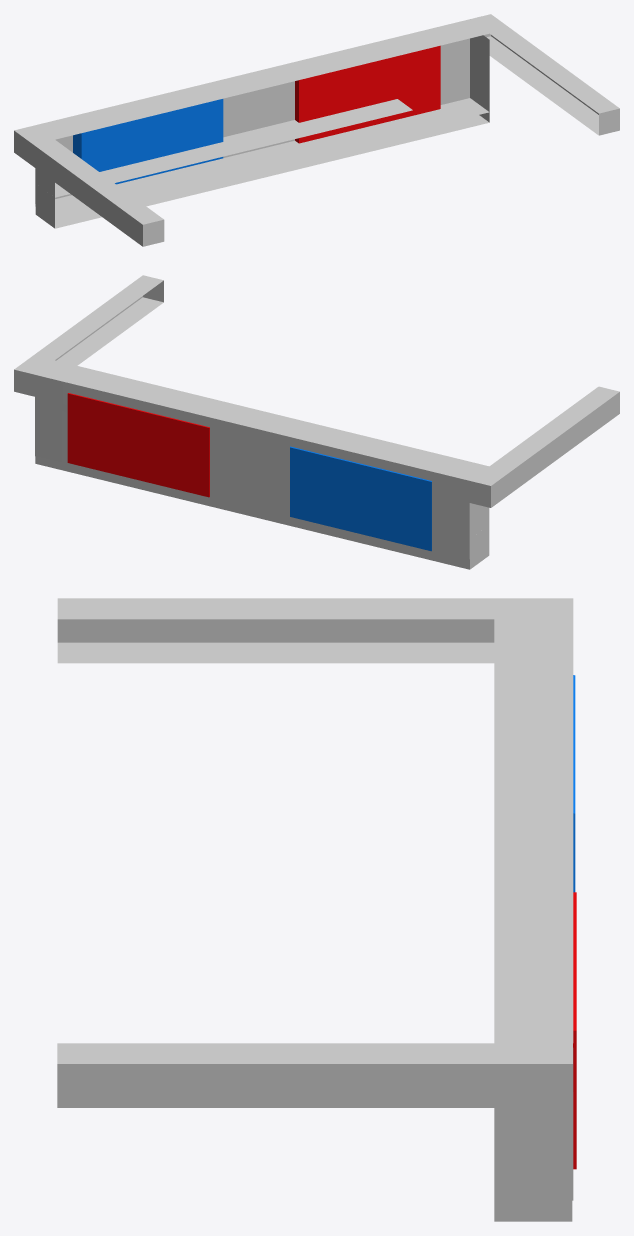
The model's file is 3DEyes.fbx.
3 views of the same model, one above another, from view 1: azimuth 30°, elevation 25°; view 2: azimuth 150°, elevation 25°; view 3: azimuth 270°, elevation 25° (orthographic). The views are drawn at different scales.
Parts seen in each view (by area): view 1: eyes lunette rouge et bleu .001; view 2: eyes lunette rouge et bleu .001; view 3: eyes lunette rouge et bleu .001.
Boxes of the visible parts, x1,y1,x2,y2 form: eyes lunette rouge et bleu .001: (14,14,619,246); eyes lunette rouge et bleu .001: (14,275,619,569); eyes lunette rouge et bleu .001: (57,598,576,1221).
Bounding box in the file's own units: 110 × 19.58 × 51.77.
